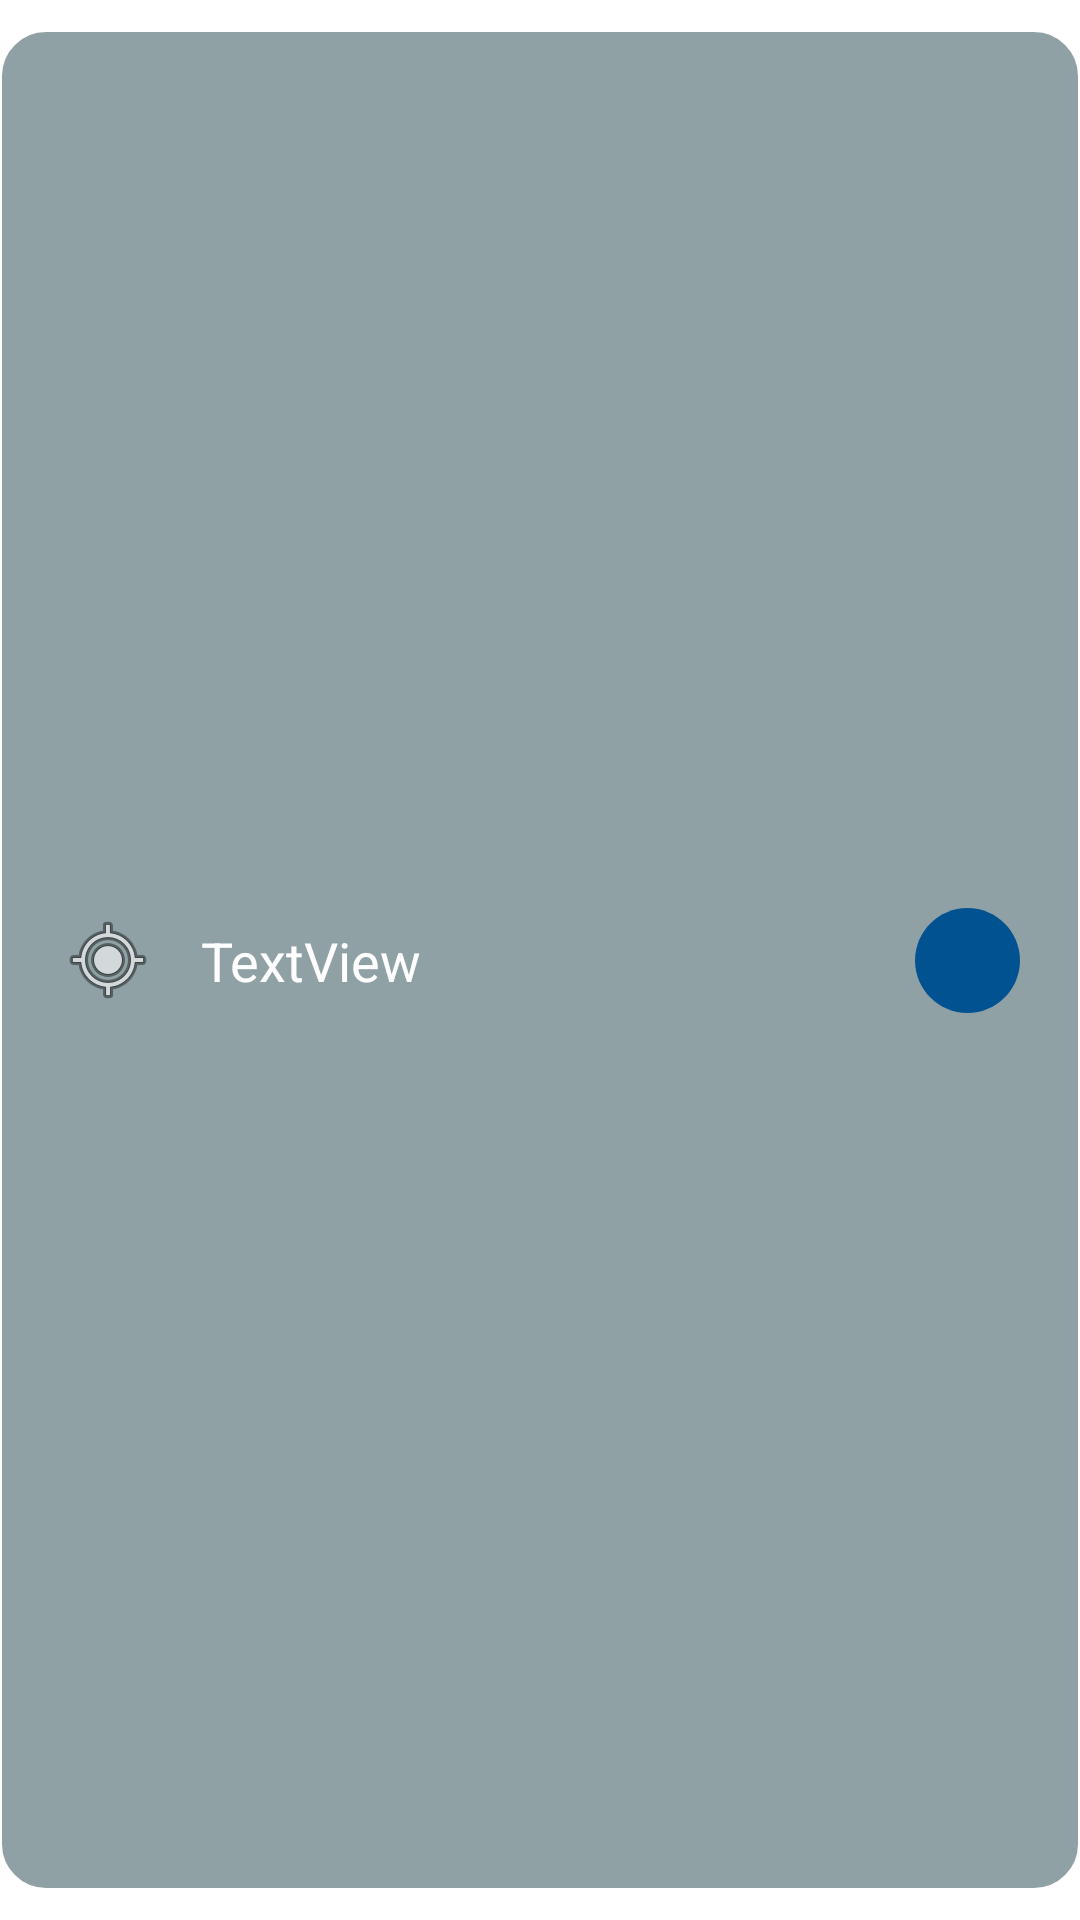

Where icons sit on this 1080x1920 app screen, as (x1, y1, x2, y2):
mylocation: (70, 922, 146, 998)
